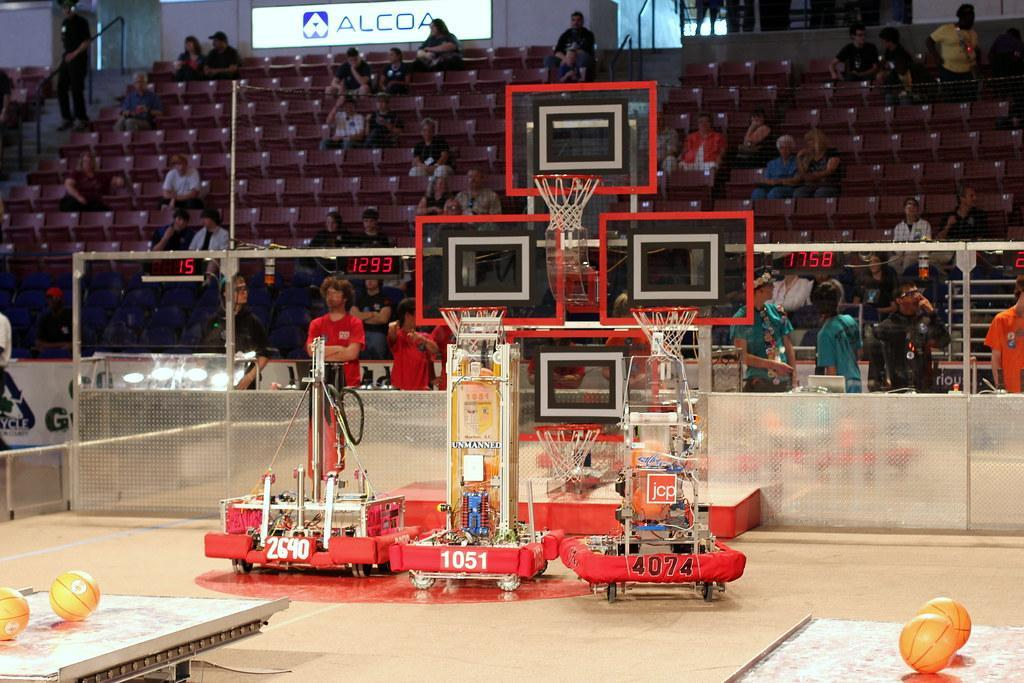robot: (556, 347, 753, 607), (205, 331, 404, 587), (387, 341, 553, 596)
